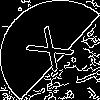X: (25, 25, 84, 80)
